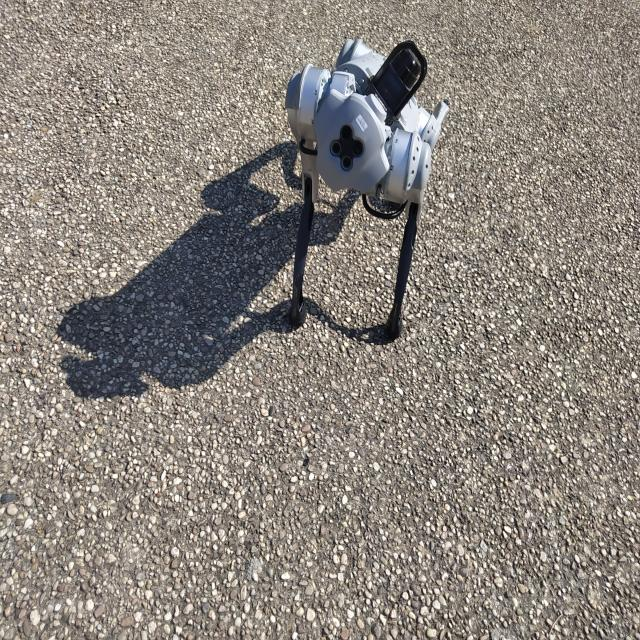unitree-go1-robot: (287, 37, 444, 382)
